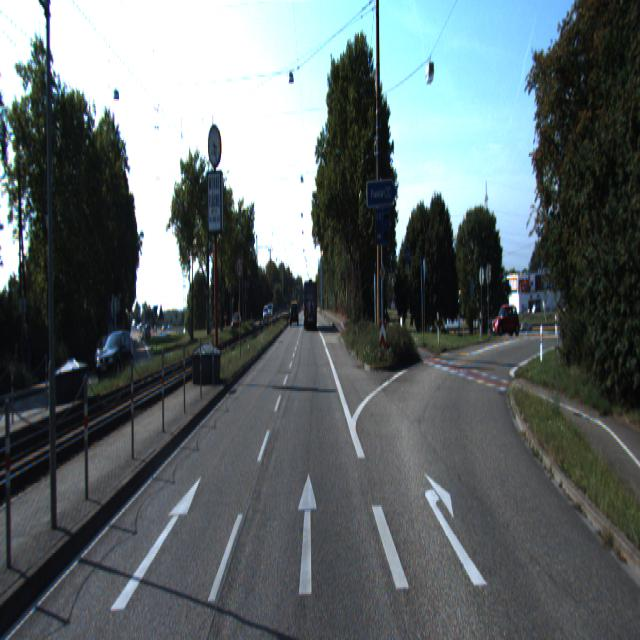Car: (96, 330, 134, 388), (492, 303, 521, 337), (304, 280, 318, 331)
